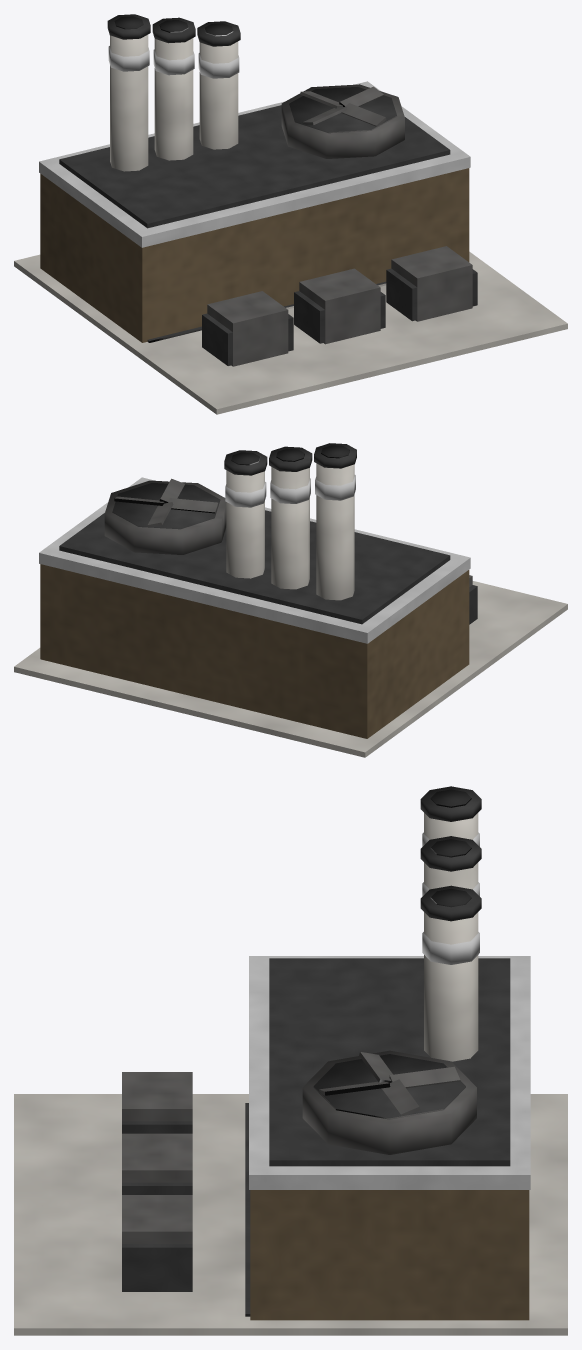
File: generator.glb
3 renders of one model, top to bottom at view 1: azimuth 30°, elevation 25°; view 2: azimuth 150°, elevation 25°; view 3: azimuth 270°, elevation 25°, orthographic. The views are drawn at different scales.
Visible parts, largest first — view 1: building; view 2: building; view 3: building.
Part boxes in pixels (left/top/right/bottom): building: left=14, top=14, right=567, bottom=414; building: left=14, top=443, right=567, bottom=757; building: left=14, top=786, right=567, bottom=1335.
Bounding box in the file's own units: 20.34 × 14.25 × 20.34.
Materials: 2 (2 with a texture image).
